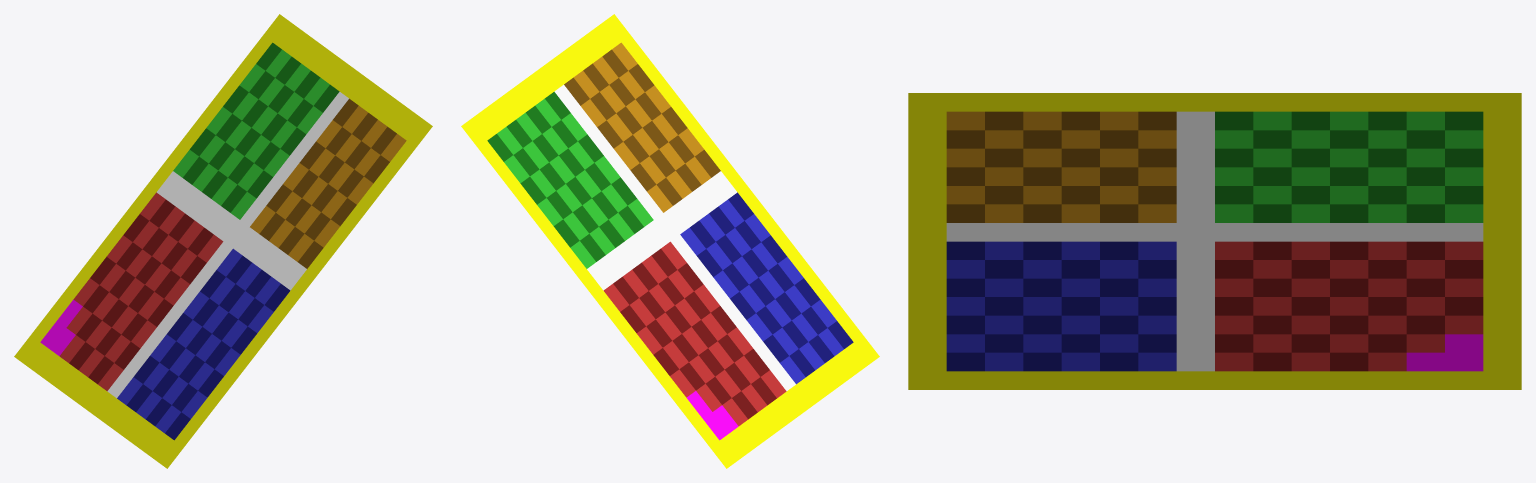
The model's file is pixel_art_diagonal_stretch_16x16.obj.
3 views of the same model, side by side, from view 1: azimuth 30°, elevation 25°; view 2: azimuth 150°, elevation 25°; view 3: azimuth 270°, elevation 25° (orthographic). The views are drawn at different scales.
Parts seen in each view (by area): view 1: pixel_art_diagonal_stretch; view 2: pixel_art_diagonal_stretch; view 3: pixel_art_diagonal_stretch.
Boxes of the visible parts, x1,y1,x2,y2 form: pixel_art_diagonal_stretch: (14, 14, 432, 468); pixel_art_diagonal_stretch: (461, 14, 879, 468); pixel_art_diagonal_stretch: (908, 93, 1521, 389).
Bounding box in the file's own units: 16 × 16 × 16.
1 material, 1 textured.
